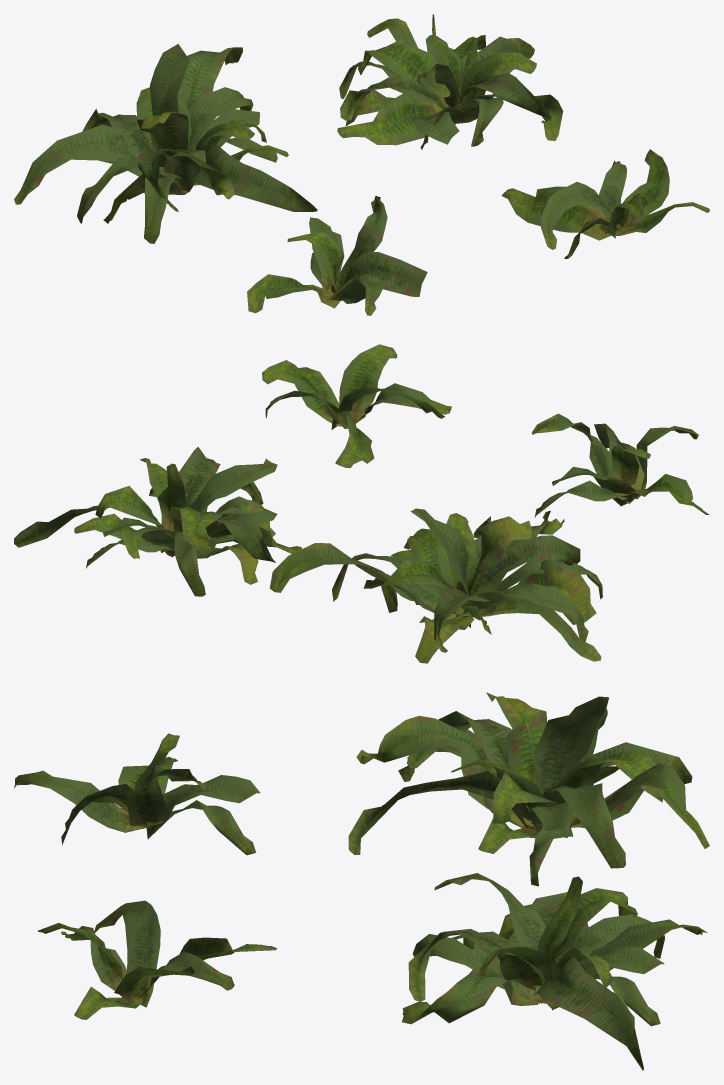
The model's file is fern.glb.
The picture shows the model from 3 angles, top to bottom: view 1: azimuth 30°, elevation 25°; view 2: azimuth 150°, elevation 25°; view 3: azimuth 270°, elevation 25°; orthographic projection. The views are drawn at different scales.
Parts seen in each view (by area): view 1: fern_02_b, fern_02_c, fern_02_d, fern_02_a; view 2: fern_02_b, fern_02_c, fern_02_d, fern_02_a; view 3: fern_02_b, fern_02_c, fern_02_a, fern_02_d.
Boxes of the visible parts, bbox=[...] form: fern_02_b: bbox=[14, 44, 317, 243]; fern_02_c: bbox=[337, 14, 563, 149]; fern_02_d: bbox=[501, 149, 709, 258]; fern_02_a: bbox=[247, 196, 427, 315]; fern_02_b: bbox=[270, 508, 602, 663]; fern_02_c: bbox=[14, 447, 301, 596]; fern_02_d: bbox=[262, 344, 451, 468]; fern_02_a: bbox=[531, 413, 709, 517]; fern_02_b: bbox=[348, 692, 709, 886]; fern_02_c: bbox=[402, 873, 707, 1070]; fern_02_a: bbox=[14, 733, 260, 855]; fern_02_d: bbox=[38, 900, 276, 1019].
Size of the model in its own units: 1.97 by 0.4277 by 1.72.
1 material, 1 textured.
